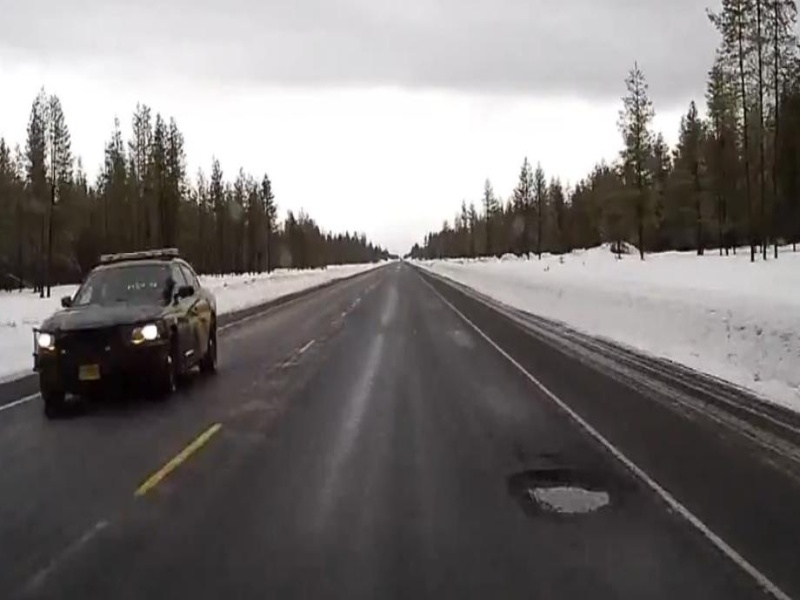pothole: (509, 467, 625, 523)
